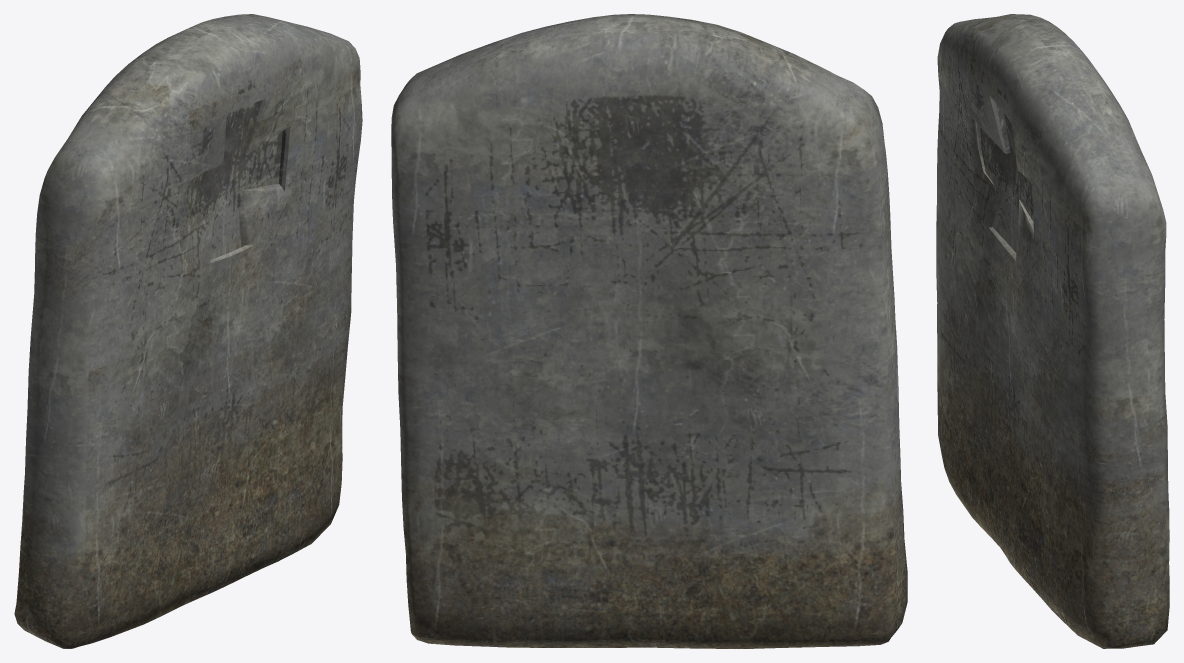
The model's file is gravestone01.obj.
The picture shows the model from 3 angles, left to right: view 1: azimuth 30°, elevation 25°; view 2: azimuth 150°, elevation 25°; view 3: azimuth 270°, elevation 25°; orthographic projection. The views are drawn at different scales.
Visible parts, largest first — view 1: gravestone01; view 2: gravestone01; view 3: gravestone01.
Part boxes in pixels (x1,y1,x2,y2): gravestone01: (14, 14, 362, 648); gravestone01: (391, 14, 907, 648); gravestone01: (936, 14, 1169, 648).
Bounding box in the file's own units: 1.52 × 2.05 × 0.8095.
1 material, 1 textured.
